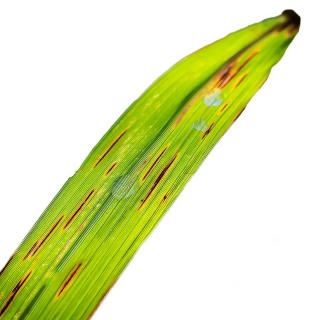Bercak-Cokelat-Sempit: (16, 184, 108, 265), (128, 153, 198, 213), (82, 132, 144, 174), (213, 53, 264, 95), (0, 270, 39, 313), (48, 266, 92, 300), (200, 120, 226, 141), (215, 100, 237, 118)
